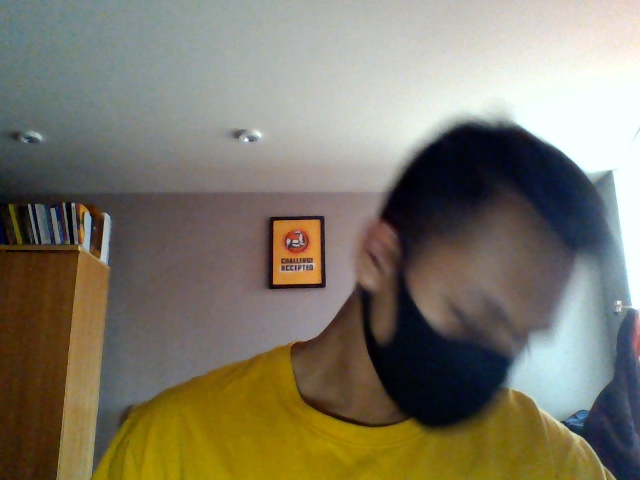mask: (366, 329, 512, 432)
